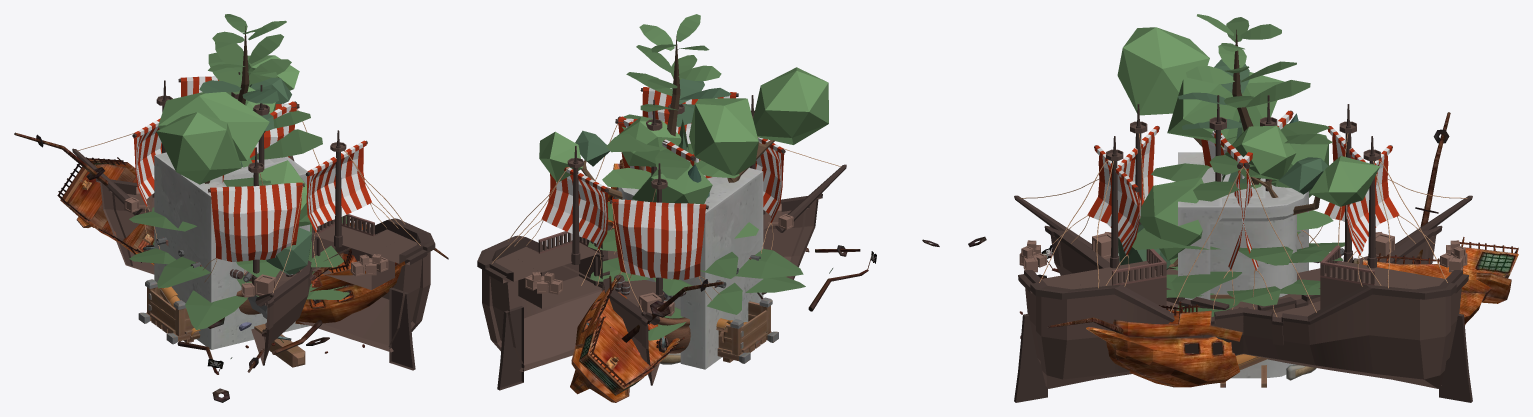
Rendered from extra.glb.
The picture shows the model from 3 angles, left to right: view 1: azimuth 30°, elevation 25°; view 2: azimuth 150°, elevation 25°; view 3: azimuth 270°, elevation 25°; orthographic projection. The views are drawn at different scales.
Parts seen in each view (by area): view 1: X_merchantship, X_fern1, X_roundtree, X_port_cornerin, X_galleonwreck, X_port_cart, X_port_woodstick; view 2: X_merchantship, X_roundtree, X_fern1, X_port_cornerin, X_galleonwreck, X_port_cart, X_skiff, X_port_cornerout; view 3: X_merchantship, X_roundtree, X_fern1, X_galleonwreck, X_port_cornerout, X_port_cornerin.
Boxes of the visible parts, box(x1,y1,x2,y2) form: X_merchantship: box(72, 72, 435, 370); X_fern1: box(129, 14, 349, 329); X_roundtree: box(156, 55, 312, 274); X_port_cornerin: box(154, 152, 309, 349); X_galleonwreck: box(14, 132, 448, 402); X_port_cart: box(138, 279, 198, 344); X_port_woodstick: box(254, 324, 305, 367); X_merchantship: box(477, 87, 846, 390); X_roundtree: box(539, 67, 828, 204); X_fern1: box(588, 14, 805, 340); X_port_cornerin: box(680, 168, 763, 369); X_galleonwreck: box(570, 159, 939, 402); X_port_cart: box(717, 297, 778, 363); X_skiff: box(658, 316, 690, 353); X_port_cornerout: box(618, 187, 714, 313); X_merchantship: box(1014, 95, 1472, 402); X_roundtree: box(1117, 27, 1380, 269); X_fern1: box(1132, 14, 1344, 316); X_galleonwreck: box(968, 112, 1518, 387); X_port_cornerout: box(1210, 179, 1308, 378); X_port_cornerin: box(1178, 152, 1308, 299).
Bounding box in the file's own units: 8.22 × 9.14 × 12.69.
Materials: 64 (27 with a texture image).
